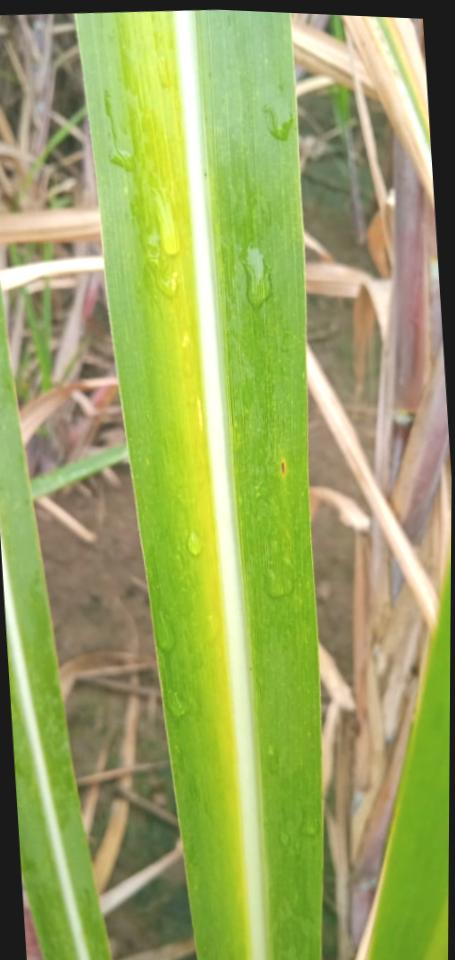Rust: (280, 460, 284, 475)
Yellow: (101, 10, 249, 960)
